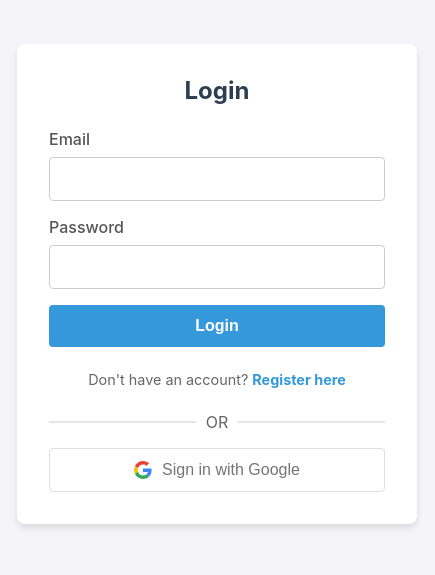
Test case: Login › submits login form and shows error on failure
Type "test@test.com" into the field at (217, 179), box [49, 157, 385, 201]
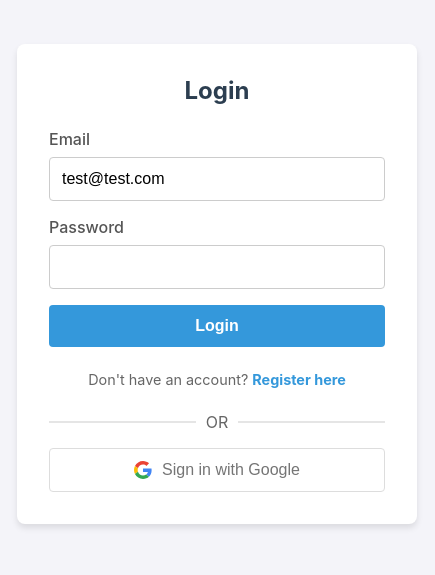
Type "wrong" into the password field at (217, 267), box [49, 245, 385, 289]
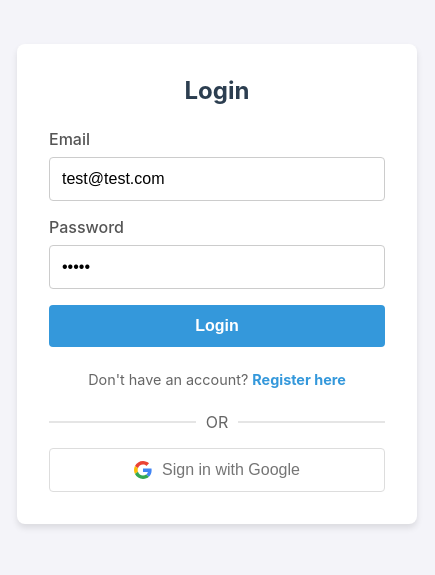
Click the button "Login" at (217, 326), box [49, 305, 385, 347]
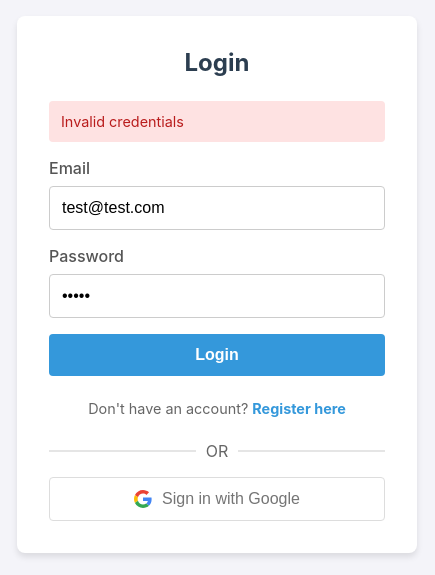
Now the text "Invalid credentials" is shown, box [49, 100, 385, 142]
